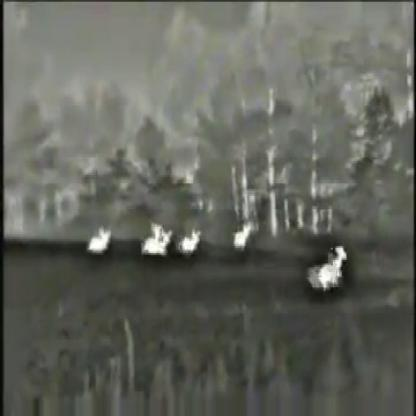rehkitze: (303, 240, 349, 295), (138, 221, 169, 258), (84, 227, 110, 257), (179, 224, 202, 257), (230, 216, 251, 250)
